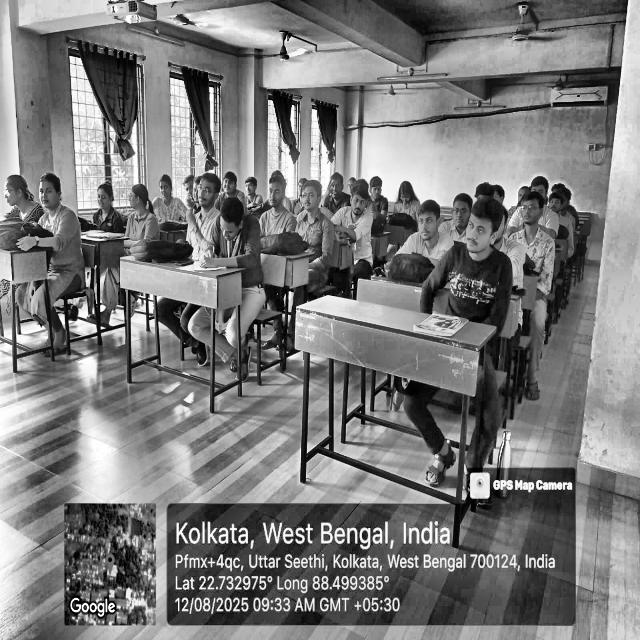Focus: (466, 199, 500, 258), (213, 198, 247, 241), (37, 172, 66, 216), (186, 171, 216, 213), (416, 202, 443, 248), (515, 195, 544, 230), (298, 179, 324, 218), (349, 184, 374, 222), (448, 190, 471, 231), (265, 174, 287, 212), (220, 164, 241, 193), (328, 170, 344, 202), (243, 172, 260, 199)
Not Focus: (2, 166, 30, 220), (128, 183, 154, 217), (95, 180, 118, 217), (396, 175, 417, 212), (157, 174, 175, 202)
